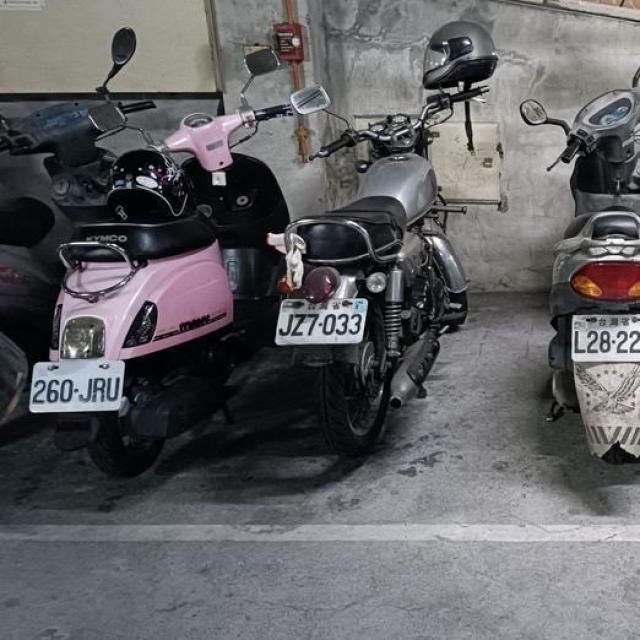W: (26, 350, 130, 418), (270, 288, 372, 352), (566, 305, 640, 367)
